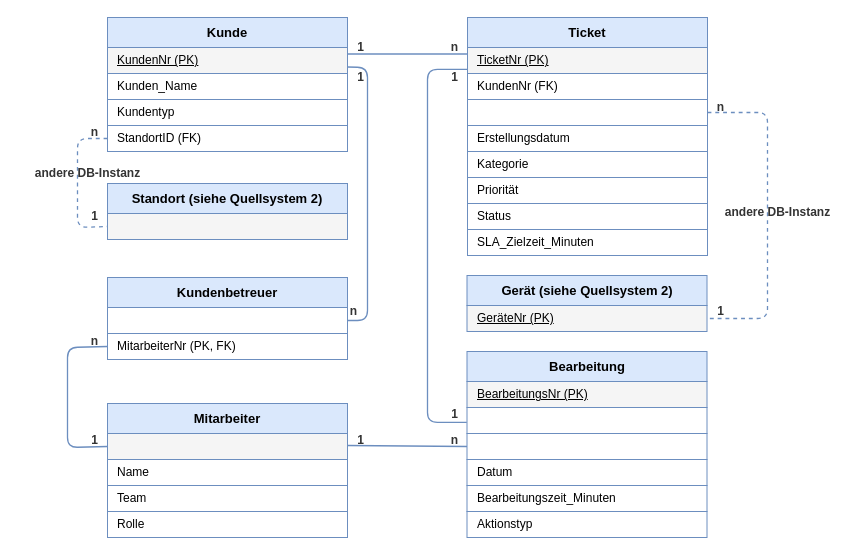
This 864x555 diagram has some shape labels left out. The shapes that lost their labels are listed below. From the top down, each one's centre as x and y in pixels, then its label:
At [587,112]: "GeräteNr (FK)".
At [227,226]: "StandortID (PK)".
At [227,320]: "KundenNr (PK, FK)".
At [586,420]: "TicketNr (FK)".
At [227,446]: "MitarbeiterNr (PK)".
At [586,446]: "MitarbeiterNr (FK)".
